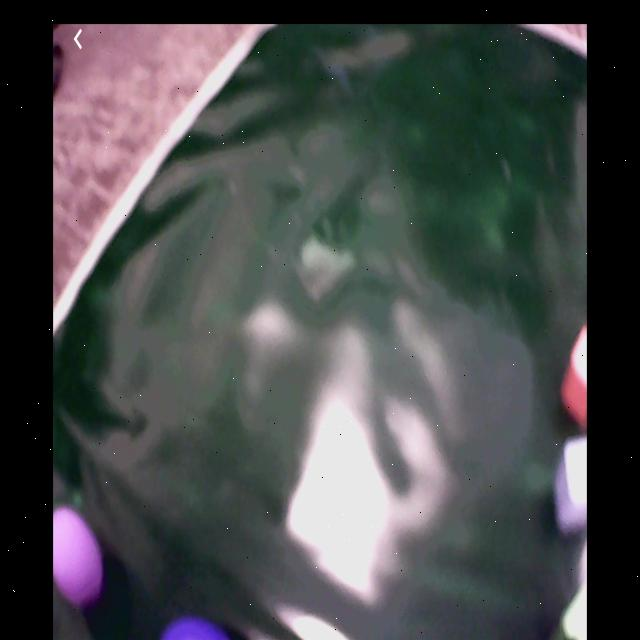ball: (55, 507, 103, 604), (162, 618, 238, 640)
